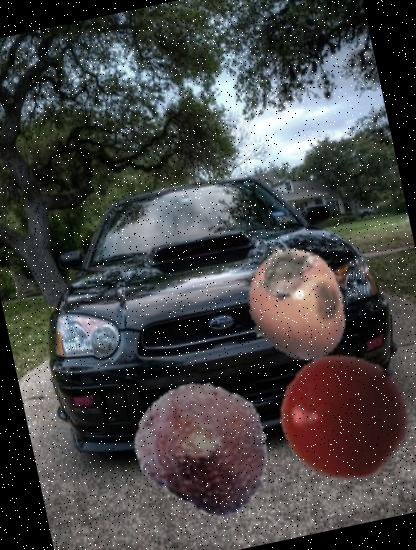Kaki: (223, 231, 368, 376)
Salak: (124, 364, 286, 525)
Tomato: (266, 338, 416, 495)
